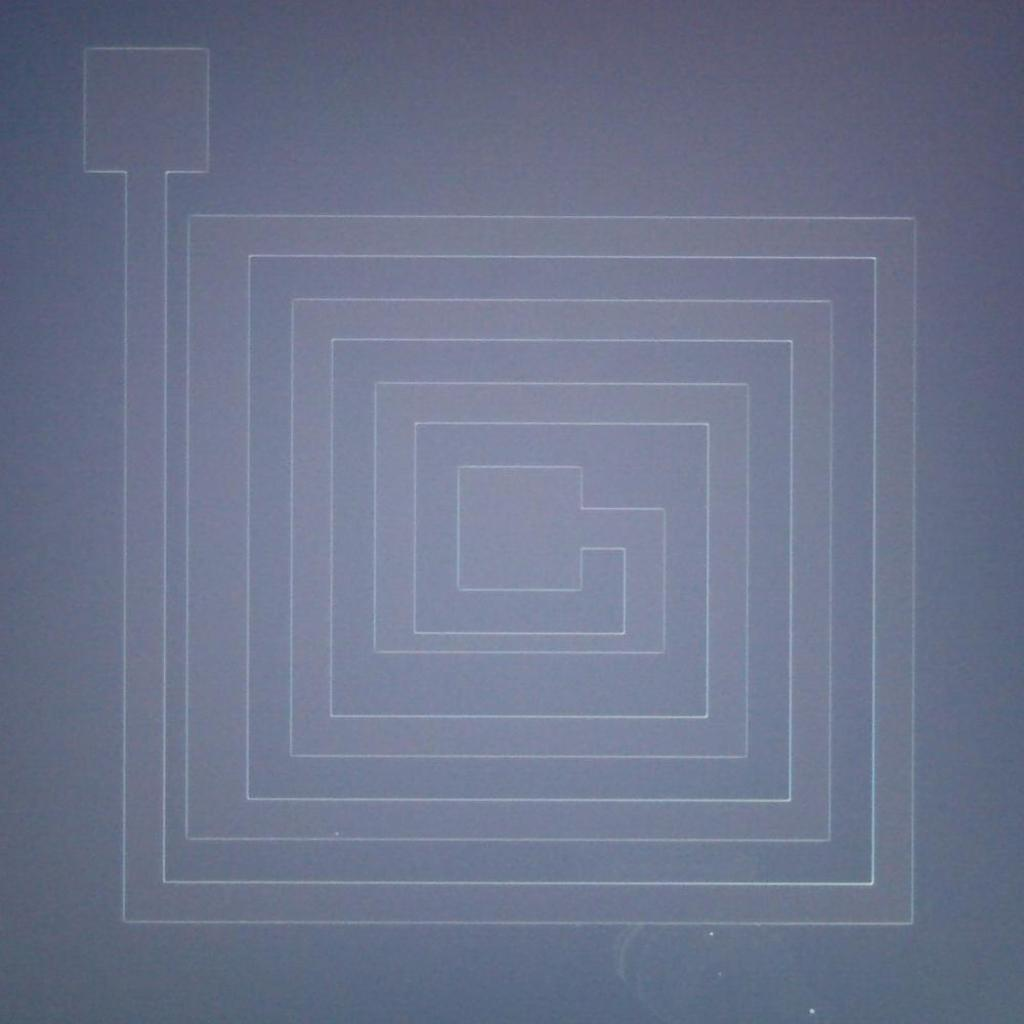dot: (788, 994, 830, 1024), (695, 925, 726, 945)
fat circuit: (178, 205, 260, 857)
thin circuit: (369, 612, 681, 667)
